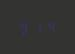four: (43, 19, 54, 33)
nine: (18, 20, 29, 34)
one: (31, 20, 42, 33)
